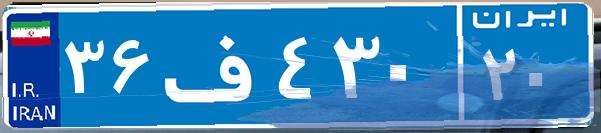0: (385, 28, 445, 110), (525, 38, 570, 115)
2: (475, 38, 525, 113)
3: (330, 28, 385, 110), (57, 26, 110, 107)
4: (273, 28, 330, 110)
6: (110, 28, 158, 105)
ف: (158, 15, 273, 115)
